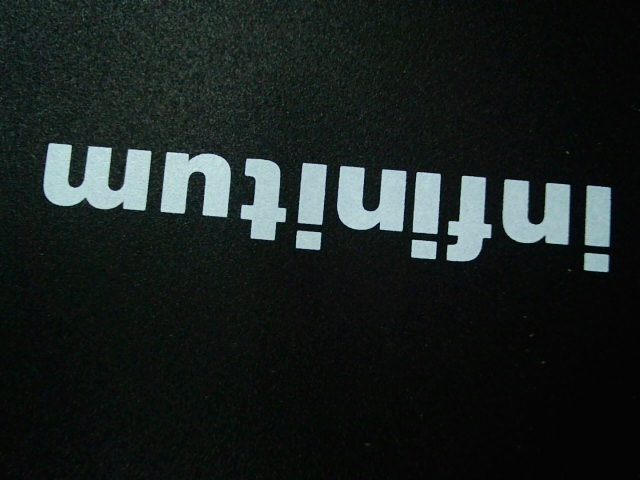BK_infinitum: (41, 136, 620, 277)
